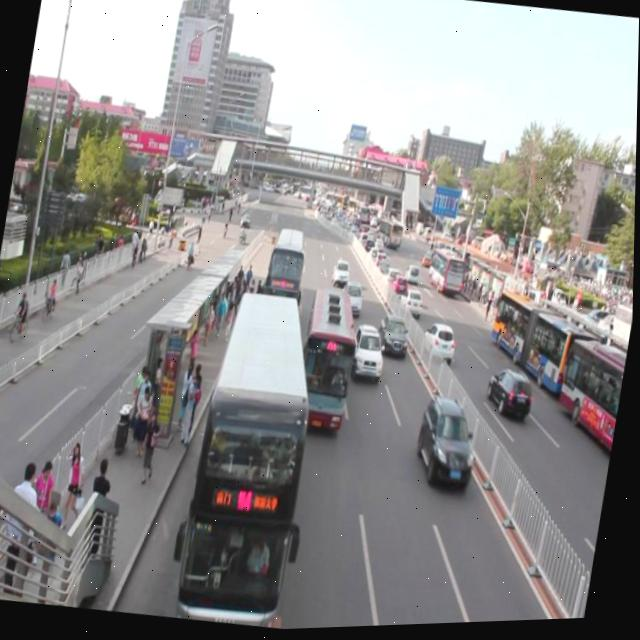car: (406, 393, 491, 507), (346, 319, 393, 388), (372, 309, 417, 365), (334, 281, 369, 322), (328, 257, 354, 290)
van: (163, 284, 343, 635), (287, 285, 371, 439), (253, 222, 317, 322)
